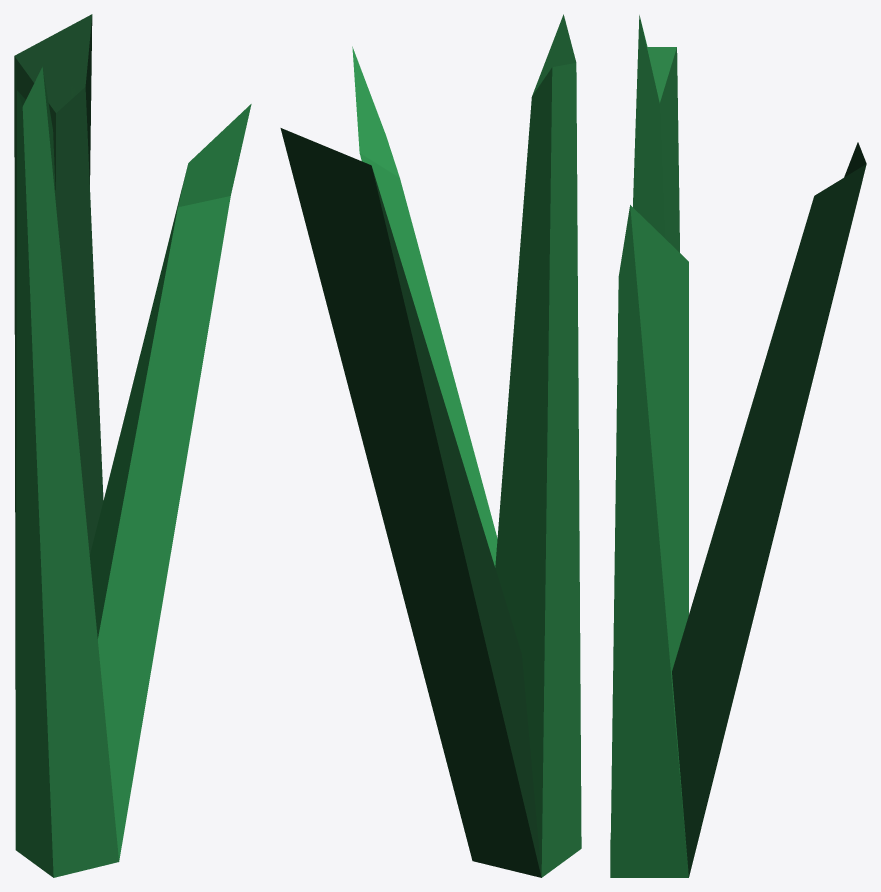
The model's file is grass1.obj.
3 views of the same model, side by side, from view 1: azimuth 30°, elevation 25°; view 2: azimuth 150°, elevation 25°; view 3: azimuth 270°, elevation 25° (orthographic). The views are drawn at different scales.
Visible parts, largest first — view 1: Cube.002_Cube.010, Cube.001_Cube.009, Cube_Cube.008; view 2: Cube_Cube.008, Cube.002_Cube.010, Cube.001_Cube.009; view 3: Cube.001_Cube.009, Cube_Cube.008, Cube.002_Cube.010.
Part boxes in pixels (x1,y1,x2,y2): Cube.002_Cube.010: (15,67,118,877); Cube.001_Cube.009: (89,104,251,861); Cube_Cube.008: (14,14,103,831); Cube_Cube.008: (280,128,541,877); Cube.002_Cube.010: (495,14,581,877); Cube.001_Cube.009: (352,46,497,567); Cube.001_Cube.009: (610,205,688,877); Cube_Cube.008: (672,142,866,876); Cube.002_Cube.010: (610,15,679,860).
Bounding box in the file's own units: 0.1684 × 0.5837 × 0.163.
Materials: 3 (3 with a texture image).
